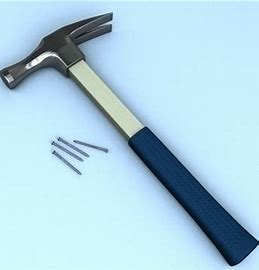martillu: (1, 7, 258, 268)
